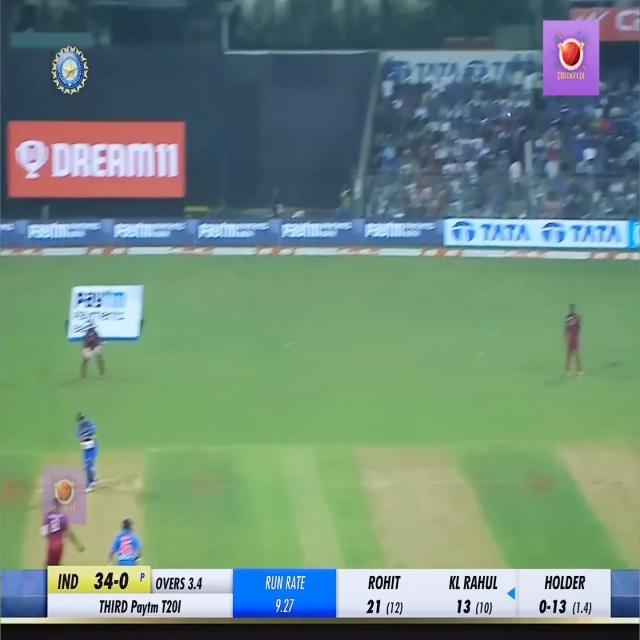fully_visible: (28, 210, 106, 256), (73, 282, 137, 331), (366, 218, 434, 253), (282, 222, 357, 250), (117, 228, 190, 251), (204, 217, 255, 245)
